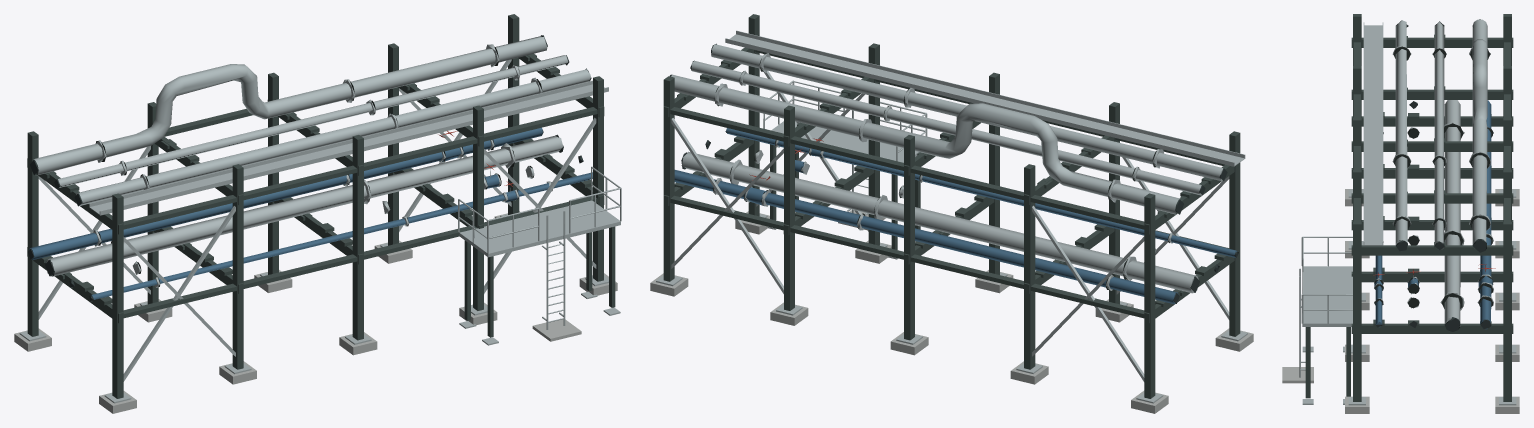
The model's file is process-pipe-rack.glb.
3 renders of one model, left to right at view 1: azimuth 30°, elevation 25°; view 2: azimuth 150°, elevation 25°; view 3: azimuth 270°, elevation 25°, orthographic. The views are drawn at different scales.
Parts seen in each view (by area): view 1: pipe_rack_structure_powder-coated-frame, process_utility_pipes_galvanized-steel, process_utility_pipes_brushed-metal-panels, process_utility_pipes_utility-blue, process-pipe-rack_galvanized-steel, pipe_rack_structure_galvanized-steel, pipe_rack_structure_cast-concrete, process_utility_pipes_powder-coated-frame, process-pipe-rack_powder-coated-frame, process-pipe-rack_cast-concrete, process_utility_pipes_dark-service-metal; view 2: pipe_rack_structure_powder-coated-frame, process_utility_pipes_galvanized-steel, process_utility_pipes_brushed-metal-panels, process_utility_pipes_utility-blue, pipe_rack_structure_galvanized-steel, pipe_rack_structure_cast-concrete, process_utility_pipes_powder-coated-frame, process-pipe-rack_galvanized-steel, process-pipe-rack_powder-coated-frame; view 3: pipe_rack_structure_powder-coated-frame, process_utility_pipes_galvanized-steel, process_utility_pipes_brushed-metal-panels, process-pipe-rack_galvanized-steel, pipe_rack_structure_cast-concrete, process_utility_pipes_rubber-gaskets, process_utility_pipes_utility-blue, process_utility_pipes_powder-coated-frame, process-pipe-rack_powder-coated-frame, pipe_rack_structure_galvanized-steel, process_utility_pipes_dark-service-metal, process-pipe-rack_cast-concrete.
Boxes of the visible parts, x1,y1,x2,y2 form: pipe_rack_structure_powder-coated-frame: (27,14,604,398); process_utility_pipes_galvanized-steel: (46,44,608,287); process_utility_pipes_brushed-metal-panels: (33,36,590,205); process_utility_pipes_utility-blue: (29,127,592,299); process-pipe-rack_galvanized-steel: (458,166,621,345); pipe_rack_structure_galvanized-steel: (19,59,608,403); pipe_rack_structure_cast-concrete: (14,211,617,413); process_utility_pipes_powder-coated-frame: (38,53,592,305); process-pipe-rack_powder-coated-frame: (464,226,615,337); process-pipe-rack_cast-concrete: (532,319,581,341); process_utility_pipes_dark-service-metal: (27,35,591,301); pipe_rack_structure_powder-coated-frame: (663,14,1240,398); process_utility_pipes_galvanized-steel: (681,30,1245,293); process_utility_pipes_brushed-metal-panels: (671,44,1223,214); process_utility_pipes_utility-blue: (674,128,1237,304); pipe_rack_structure_galvanized-steel: (656,70,1247,403); pipe_rack_structure_cast-concrete: (650,211,1253,413); process_utility_pipes_powder-coated-frame: (674,60,1229,307); process-pipe-rack_galvanized-steel: (763,80,927,259); process-pipe-rack_powder-coated-frame: (770,144,920,249); pipe_rack_structure_powder-coated-frame: (1351,14,1513,401); process_utility_pipes_galvanized-steel: (1363,22,1493,326); process_utility_pipes_brushed-metal-panels: (1395,19,1487,245); process-pipe-rack_galvanized-steel: (1299,236,1352,404); pipe_rack_structure_cast-concrete: (1345,189,1519,413); process_utility_pipes_rubber-gaskets: (1374,46,1493,308); process_utility_pipes_utility-blue: (1374,100,1492,329); process_utility_pipes_powder-coated-frame: (1373,34,1491,330); process-pipe-rack_powder-coated-frame: (1305,327,1350,398); pipe_rack_structure_galvanized-steel: (1348,189,1516,405); process_utility_pipes_dark-service-metal: (1375,19,1491,331); process-pipe-rack_cast-concrete: (1282,367,1313,383).
Size of the model in its own units: 18.03 by 8.3 by 8.22.
1 material, 1 textured.
